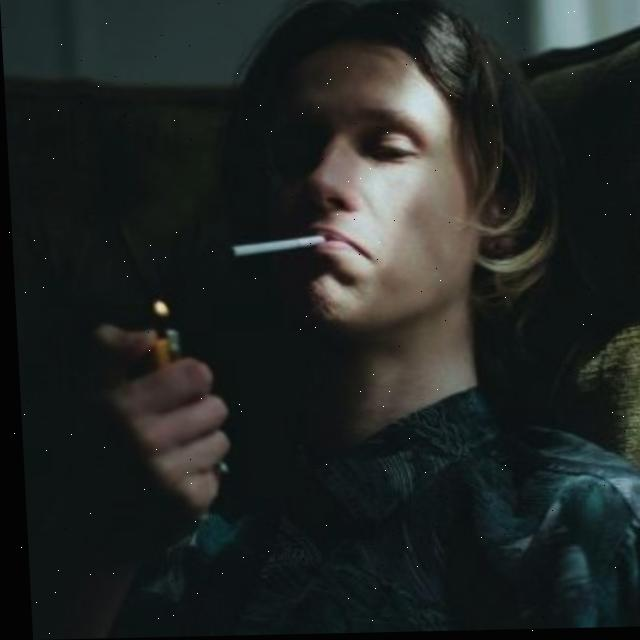cigarette: (222, 236, 325, 261)
